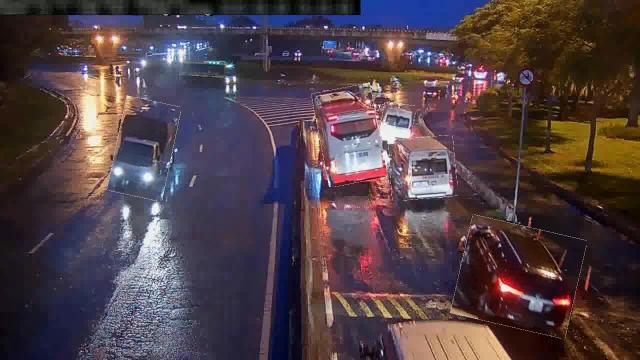Bus: (315, 85, 383, 185), (389, 136, 457, 200), (381, 103, 415, 140)
Car: (456, 221, 582, 334)
Truck: (112, 98, 176, 200)
